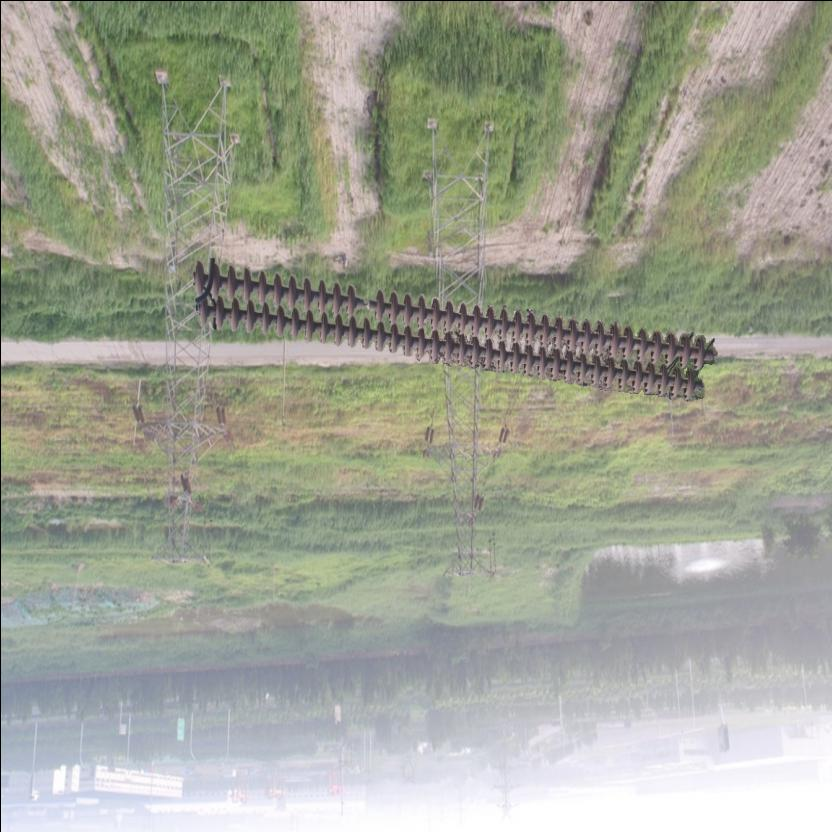defect: (338, 286, 388, 324)
